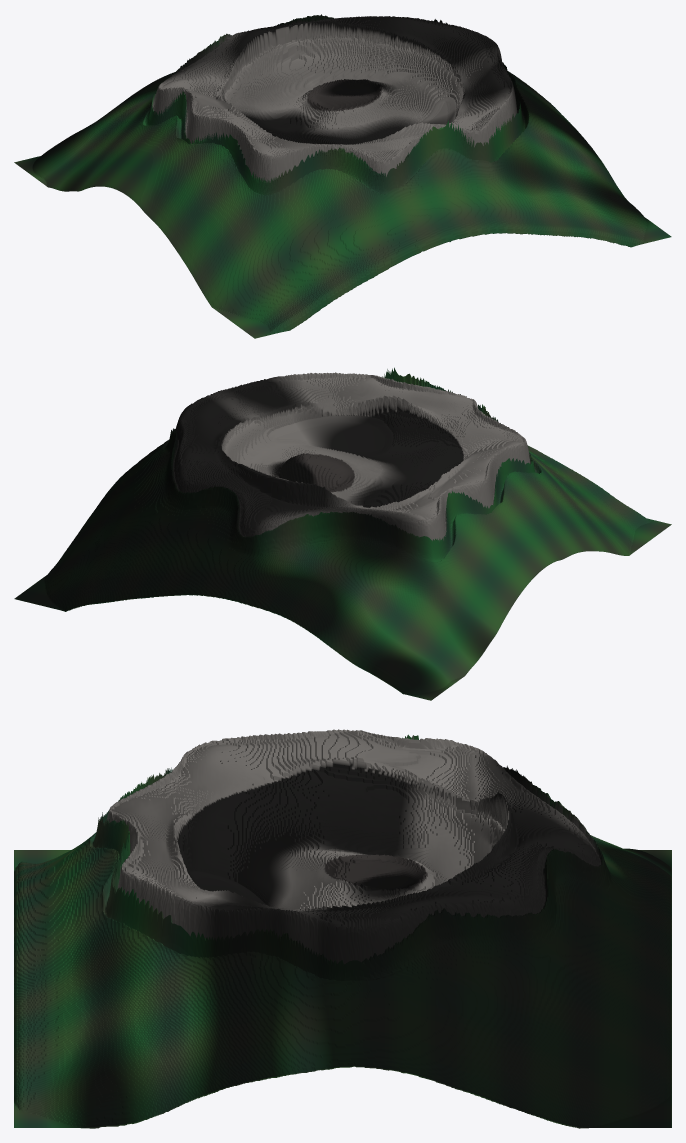
The model's file is msh_global_mesh.glb.
The picture shows the model from 3 angles, top to bottom: view 1: azimuth 30°, elevation 25°; view 2: azimuth 150°, elevation 25°; view 3: azimuth 270°, elevation 25°; orthographic projection. The views are drawn at different scales.
Visible parts, largest first — view 1: geometry_0; view 2: geometry_0; view 3: geometry_0.
Part boxes in pixels (box(x1,y1,x2,y2)): geometry_0: box(14, 14, 671, 338); geometry_0: box(14, 367, 671, 700); geometry_0: box(14, 729, 671, 1128).
Bounding box in the file's own units: 10 × 3 × 10.
1 material, 1 textured.
